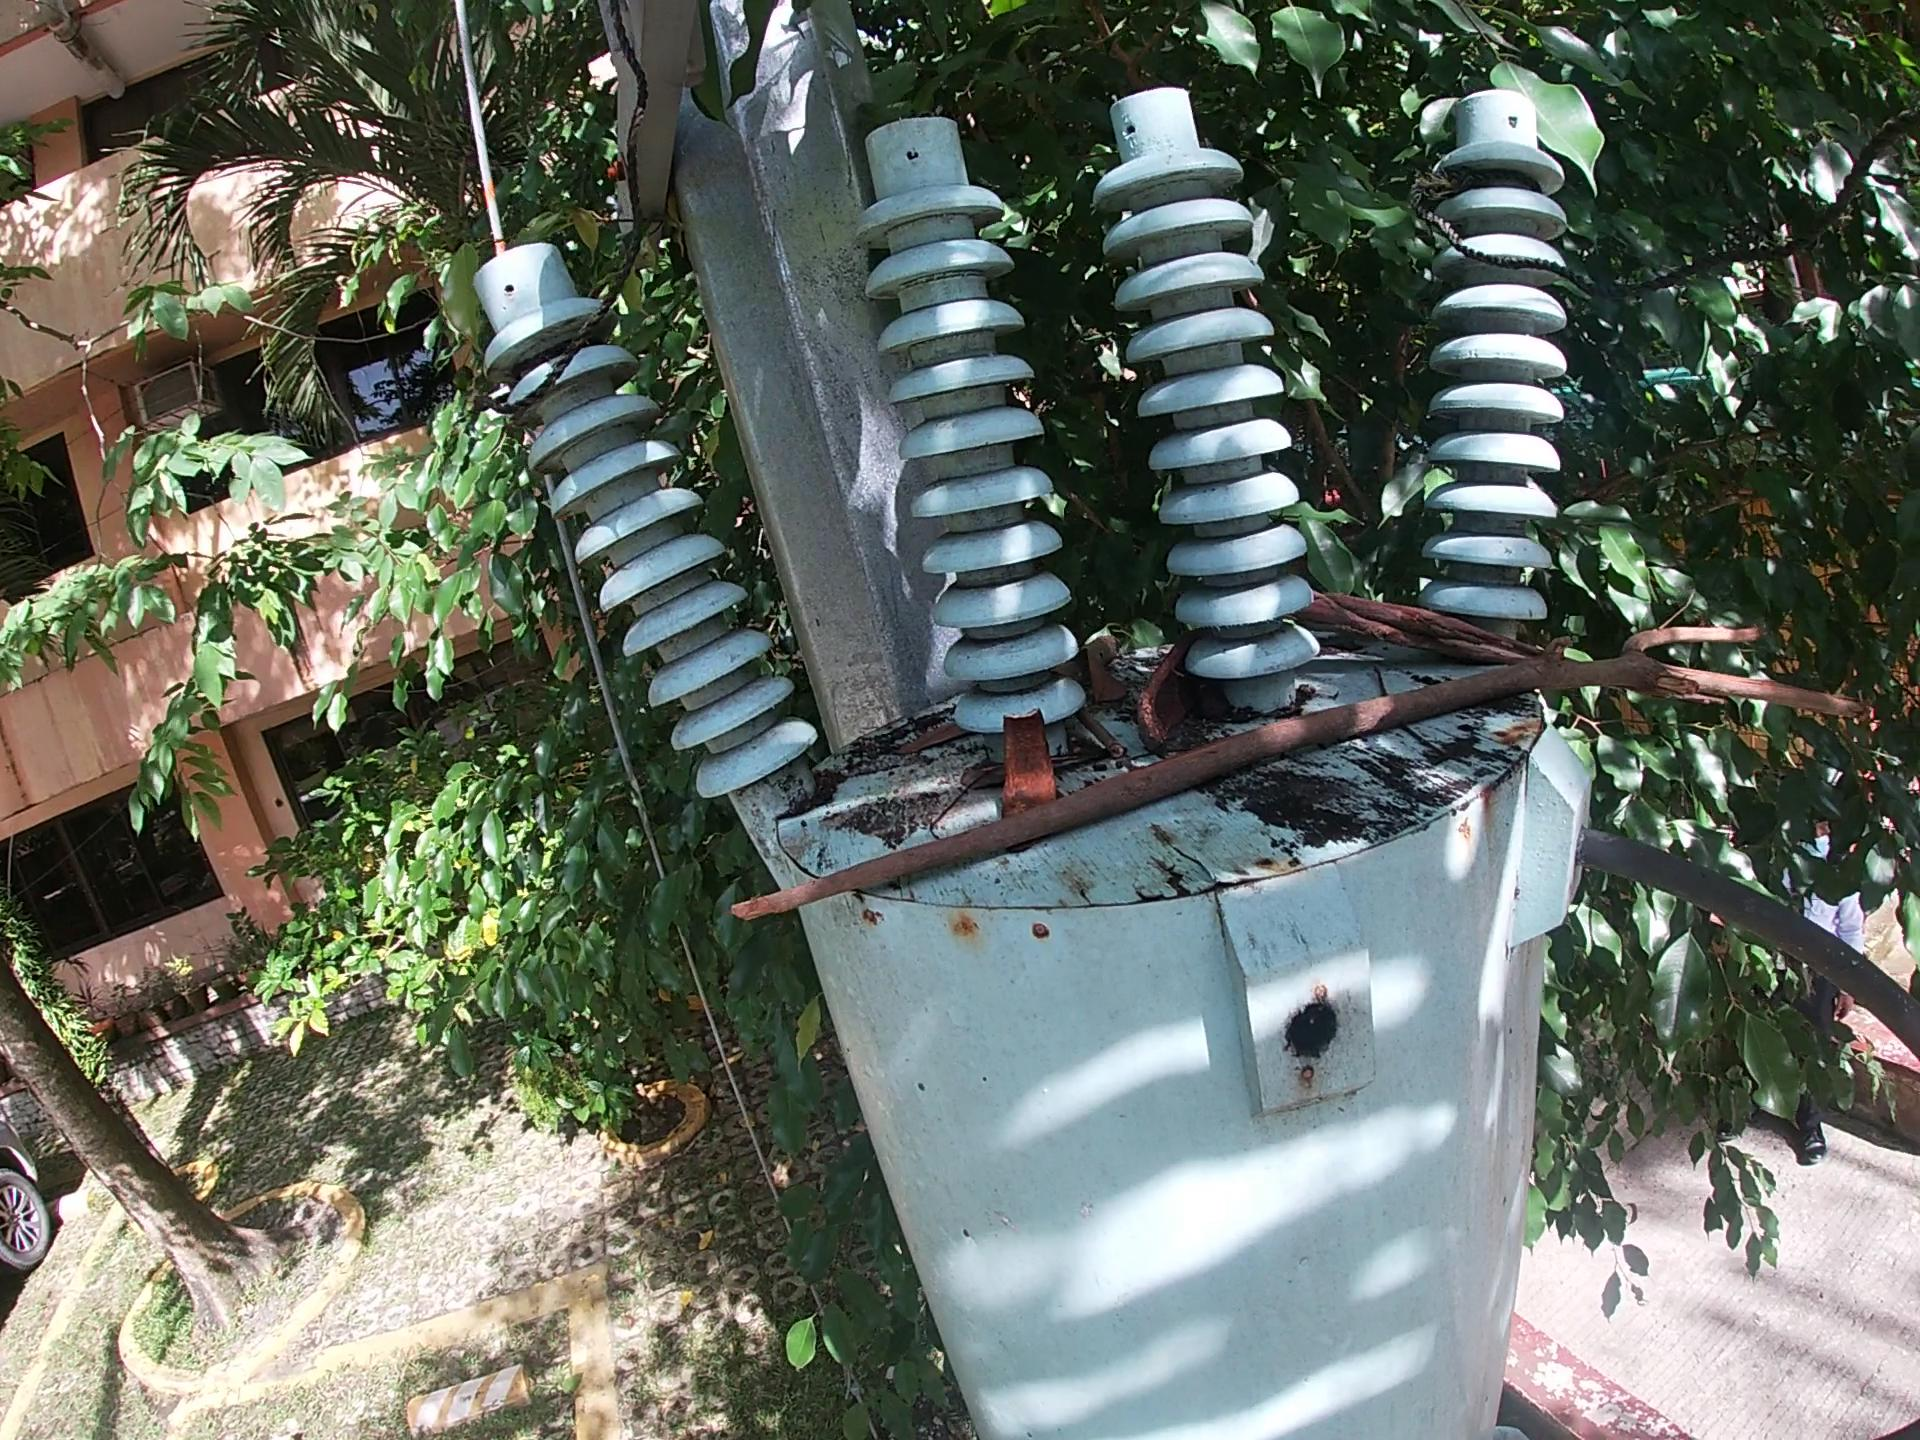leaf: (883, 725, 971, 767), (1082, 646, 1129, 703)
mahogany fruit: (1134, 632, 1200, 756), (998, 706, 1061, 821)
tree branch: (717, 616, 1875, 932), (1287, 587, 1725, 705)
